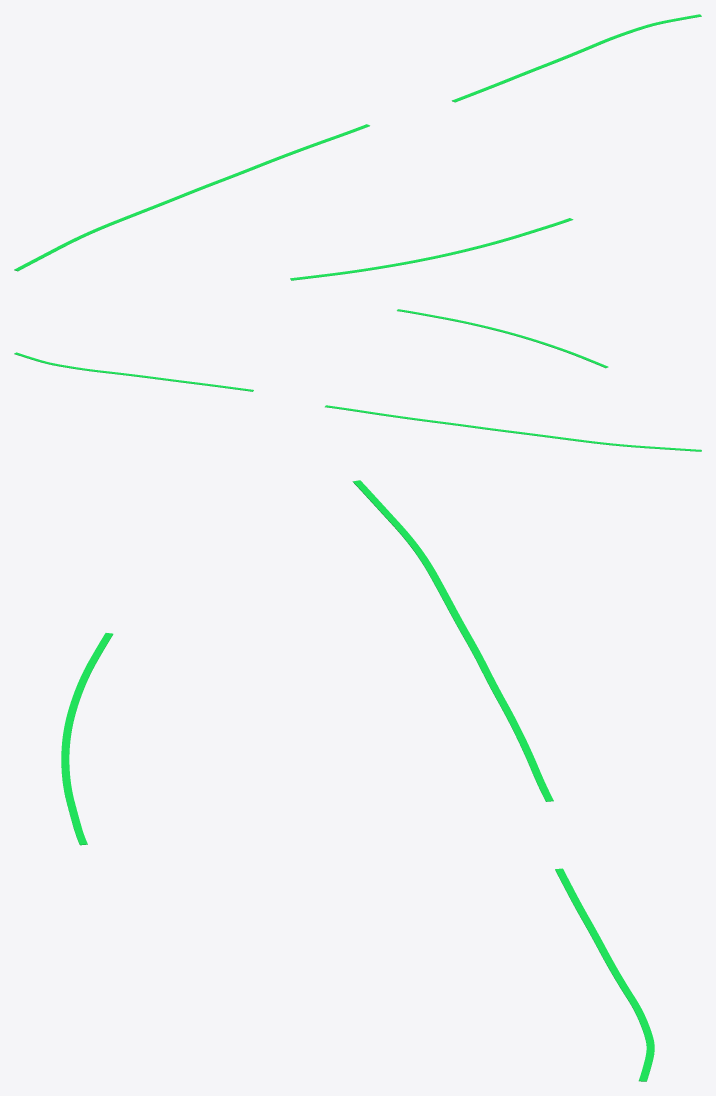
File: MontrealDrs.glb
3 renders of one model, top to bottom at view 1: azimuth 30°, elevation 25°; view 2: azimuth 150°, elevation 25°; view 3: azimuth 270°, elevation 25°, orthographic. The views are drawn at different scales.
Visible parts, largest first — view 1: DrsStrip_2, DrsStrip_1, DrsStrip_3; view 2: DrsStrip_2, DrsStrip_3, DrsStrip_1; view 3: DrsStrip_2, DrsStrip_3, DrsStrip_1.
Boxes of the visible parts, x1=… form: DrsStrip_2: x1=14, y1=124, x2=369, y2=271; DrsStrip_1: x1=290, y1=218, x2=573, y2=280; DrsStrip_3: x1=452, y1=14, x2=701, y2=102; DrsStrip_2: x1=325, y1=405, x2=701, y2=451; DrsStrip_3: x1=14, y1=352, x2=253, y2=391; DrsStrip_1: x1=397, y1=309, x2=608, y2=368; DrsStrip_2: x1=352, y1=480, x2=553, y2=801; DrsStrip_3: x1=555, y1=868, x2=654, y2=1081; DrsStrip_1: x1=61, y1=633, x2=113, y2=845.
Size of the model in its own units: 12.27 by 0.006 by 5.12.
